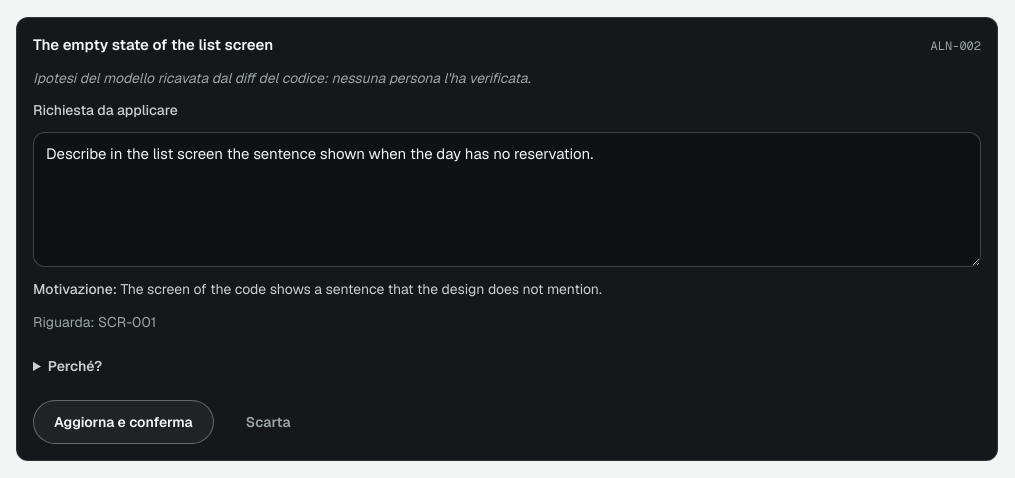
Test: AlignmentProposalsNotice › skips a proposal without a reason and says so in it
Click the button with test id "alignment-proposal-skip".
click(268, 422)  # box [226,400,311,444]
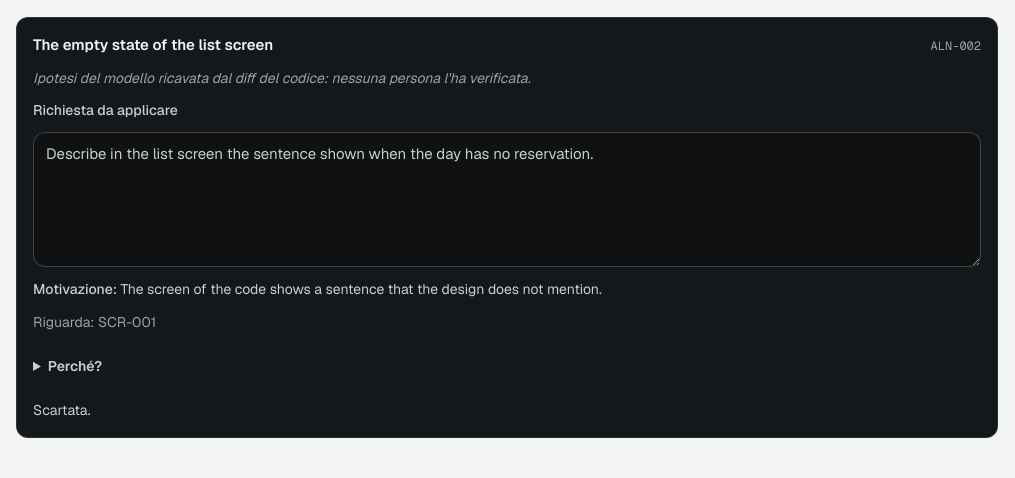
expect the message with test id "alignment-proposal-state" reads "Scartata.": met, box [33,400,91,418]
expect the text box with test id "alignment-proposal-text" is disabled: met, box [33,132,981,266]
